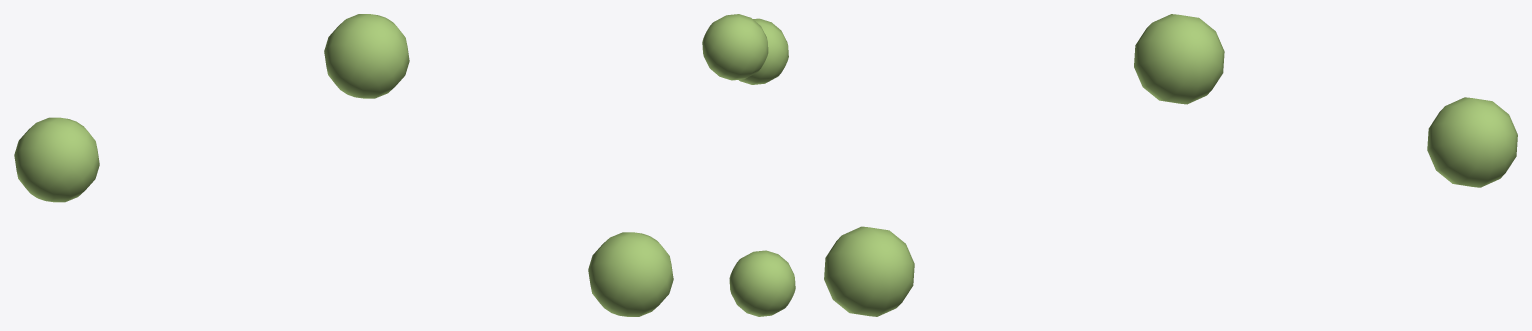
File: splenic-nodes.glb
3 renders of one model, left to right at view 1: azimuth 30°, elevation 25°; view 2: azimuth 150°, elevation 25°; view 3: azimuth 270°, elevation 25°, orthographic. The views are drawn at different scales.
Visible parts, largest first — view 1: Splenic nodes; view 2: Splenic nodes; view 3: Splenic nodes.
Part boxes in pixels (x1,y1,x2,y2): Splenic nodes: (14,14,673,316); Splenic nodes: (702,14,795,316); Splenic nodes: (824,14,1517,316).
Size of the model in its own units: 0.0127 by 0.00795 by 0.0196.
